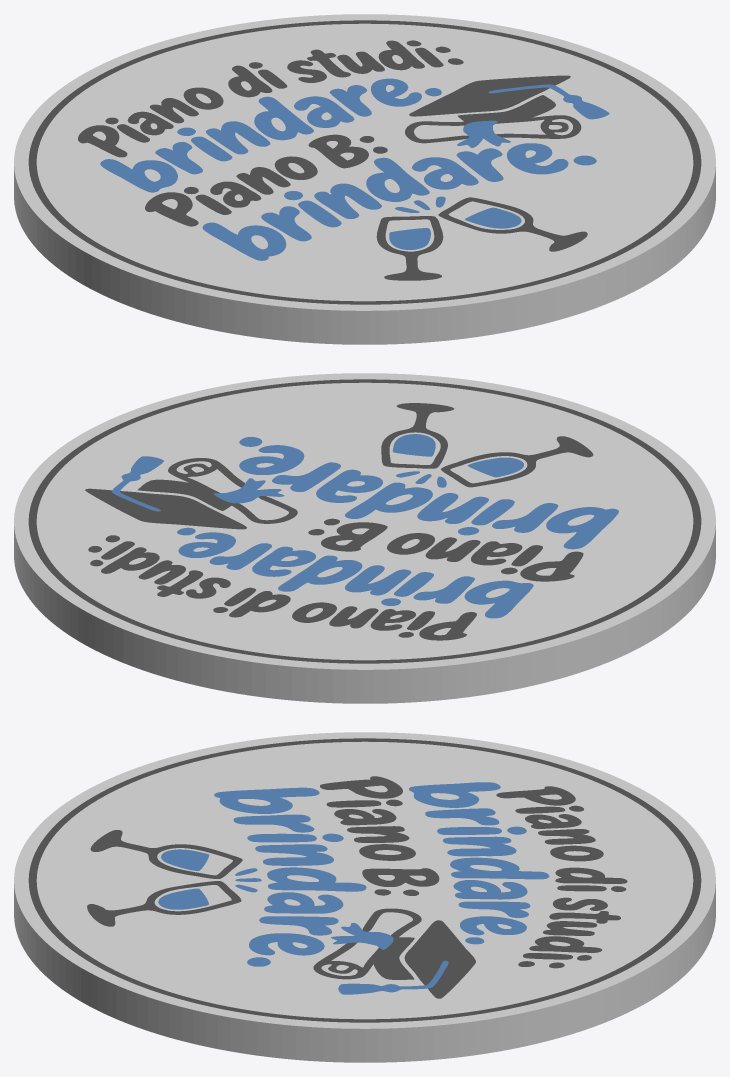
The model's file is sottobicchiere-festa-piano-studi.glb.
3 views of the same model, one above another, from view 1: azimuth 30°, elevation 25°; view 2: azimuth 150°, elevation 25°; view 3: azimuth 270°, elevation 25° (orthographic).
Visible parts, largest first — view 1: coaster_base, coaster_ink, coaster_accent; view 2: coaster_base, coaster_ink, coaster_accent; view 3: coaster_base, coaster_ink, coaster_accent.
Part boxes in pixels (<box>): coaster_base: <box>14,14,715,344</box>; coaster_ink: <box>28,20,701,304</box>; coaster_accent: <box>100,78,609,260</box>; coaster_base: <box>14,373,715,703</box>; coaster_ink: <box>28,379,701,663</box>; coaster_accent: <box>112,434,618,618</box>; coaster_base: <box>14,732,715,1062</box>; coaster_ink: <box>28,738,701,1022</box>; coaster_accent: <box>158,782,549,994</box>.
Bounding box in the file's own units: 0.075 × 0.004 × 0.075.
